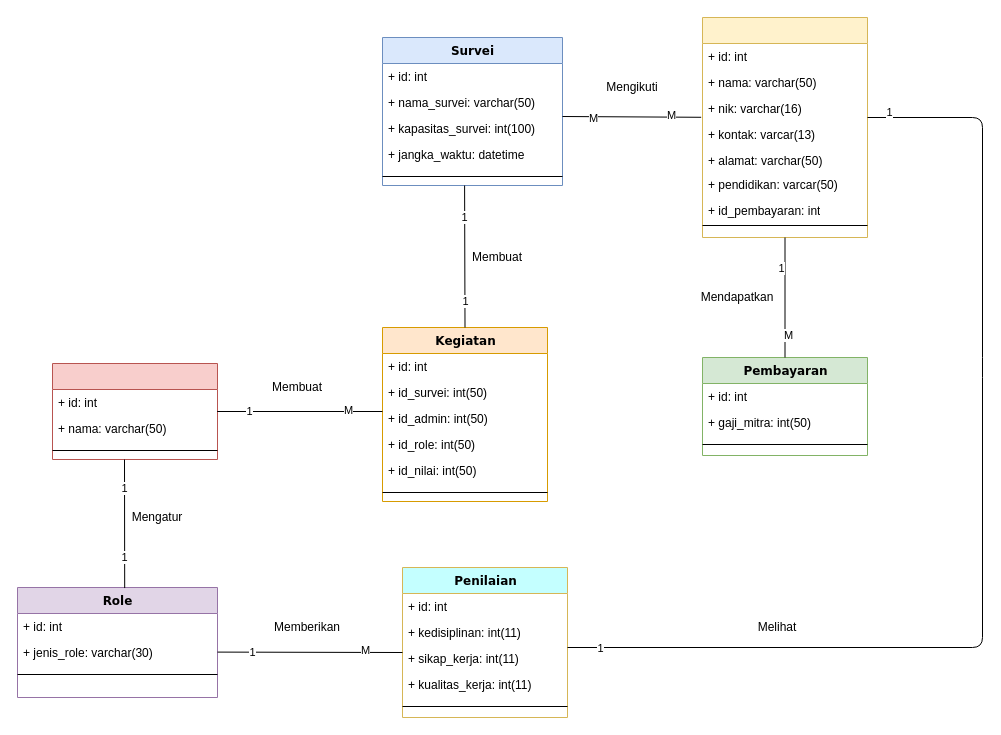
Some shapes in this 1001 by 735 pixel diagram are drawn without their labels. The shapes that lost their labels are listed below. From the top down, each one's box as (x1, y1, x2, y2) in pixels, then its label:
(702, 16, 868, 238): Mitra
(52, 362, 218, 460): Admin
